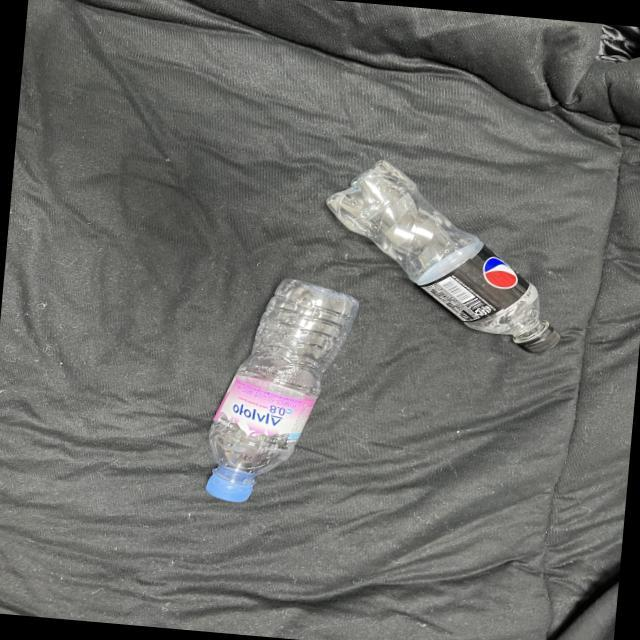good: (300, 148, 584, 375), (171, 264, 373, 520)
